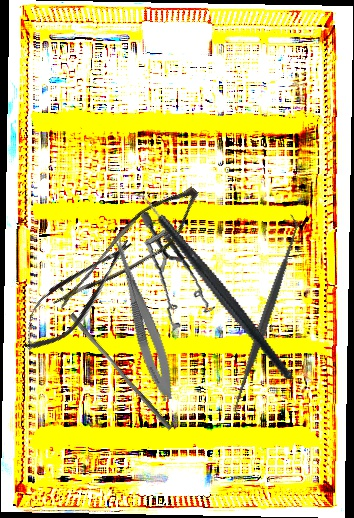Chopper: (122, 158, 294, 410)
Micro Scissor: (52, 165, 208, 338), (8, 225, 146, 363), (101, 231, 182, 404)
Pusher: (65, 312, 177, 431)
Spatula Surgical: (221, 212, 311, 420)
Speculum: (124, 210, 227, 336)
